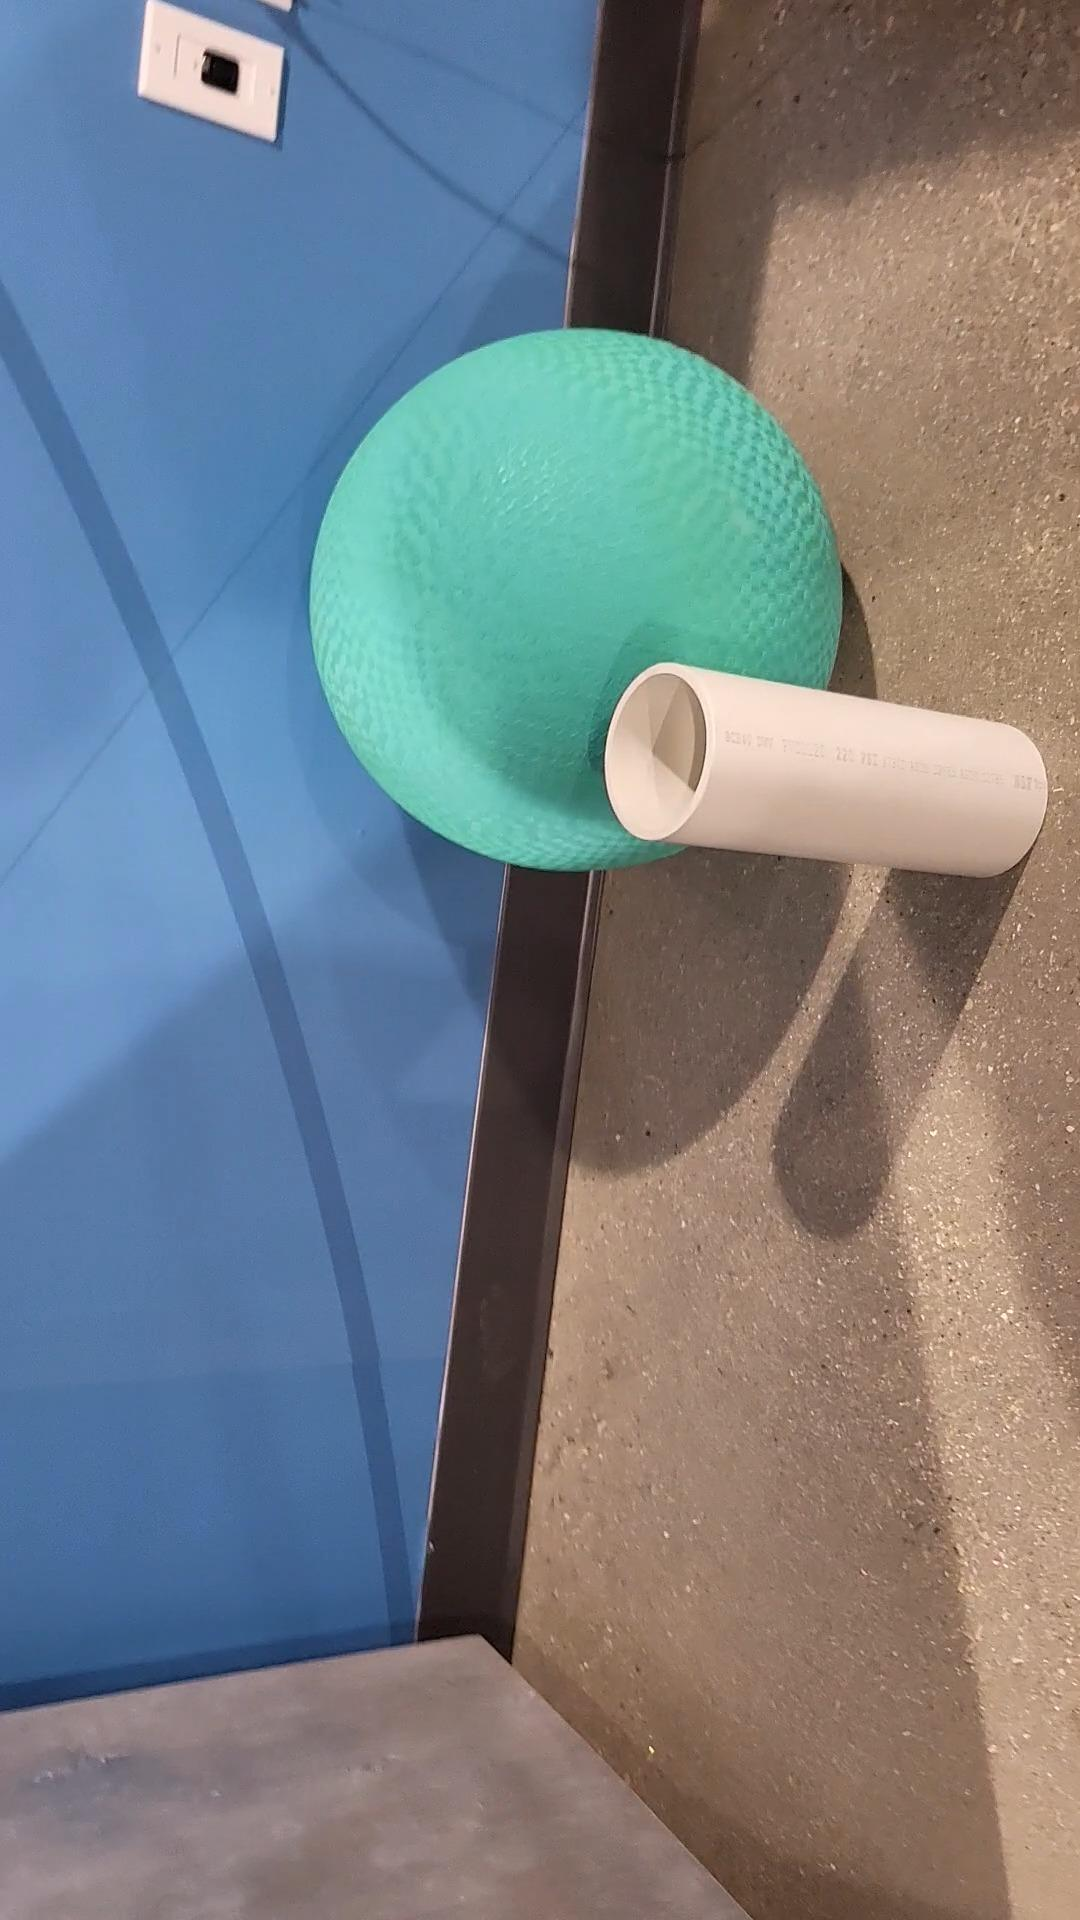algae: (313, 326, 843, 870)
coral: (604, 663, 1050, 877)
